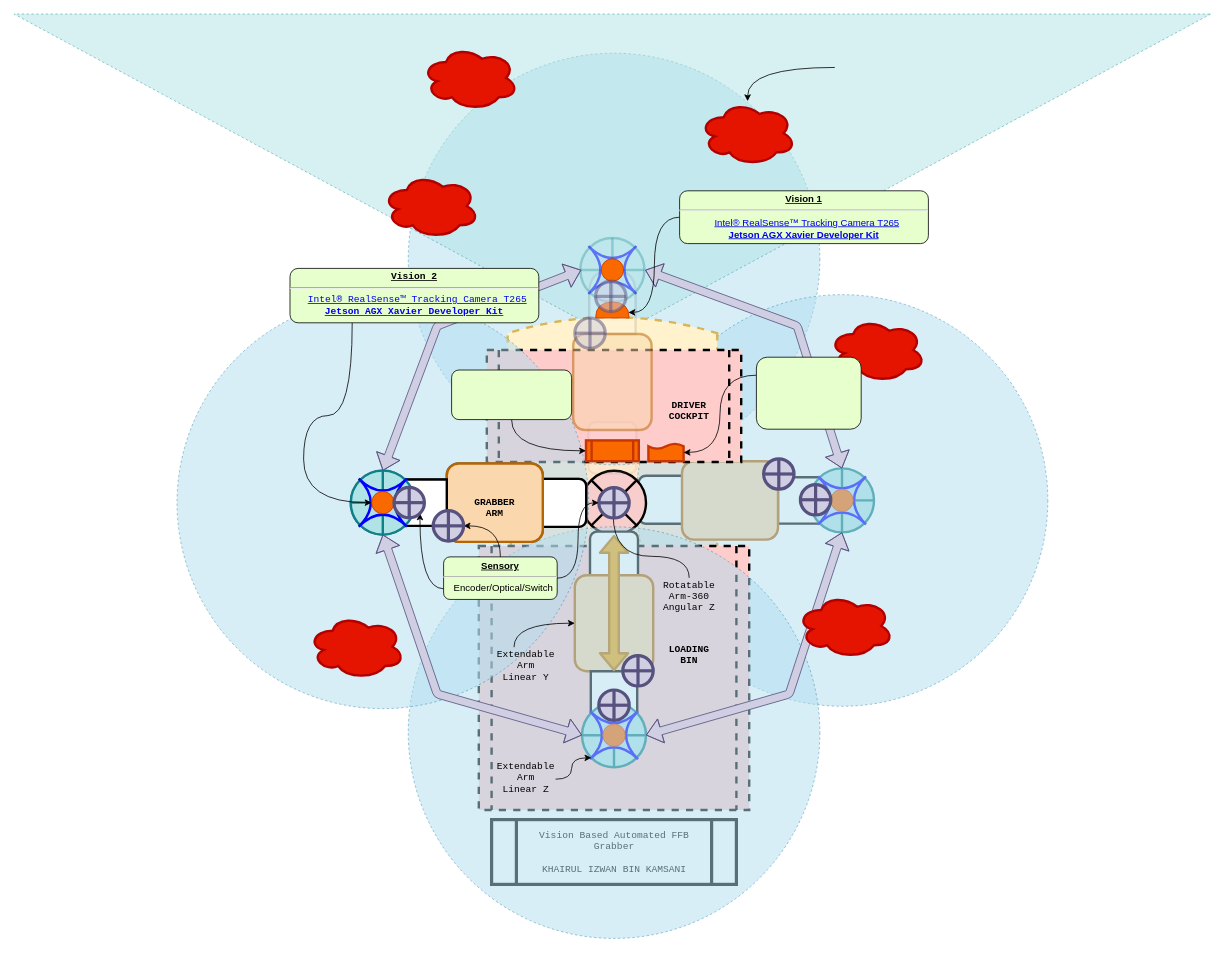
The diagram is 1225 pixels wide and 953 high, and some of its shapes have lost their labels. Each missing label, with the centre of its shape:
Central Processing Intel® NUC Mini PC: point 511,394
Controller ECU Hydraulic System: point 808,392
Fresh Fruit Bunch (FFB): point 612,175
